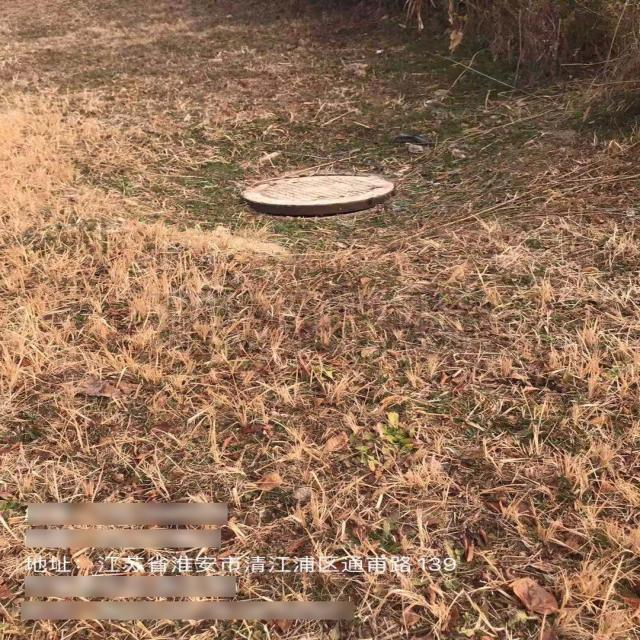Faulty: (242, 173, 396, 220)
